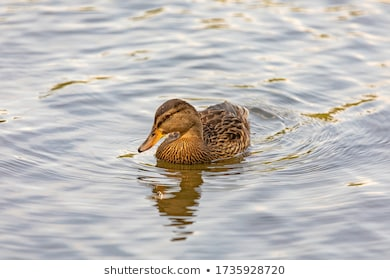duck: (132, 85, 267, 182)
